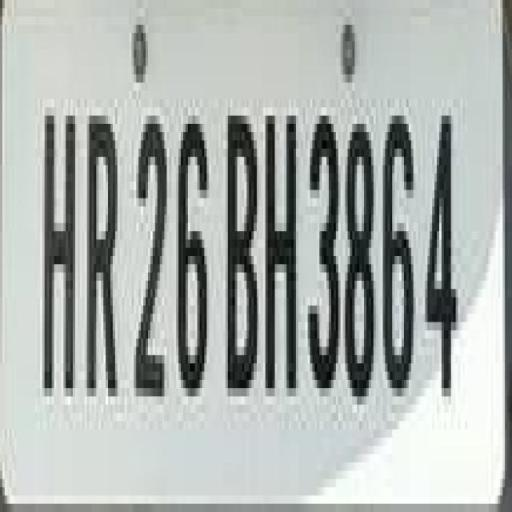number plate: (16, 8, 512, 511)
